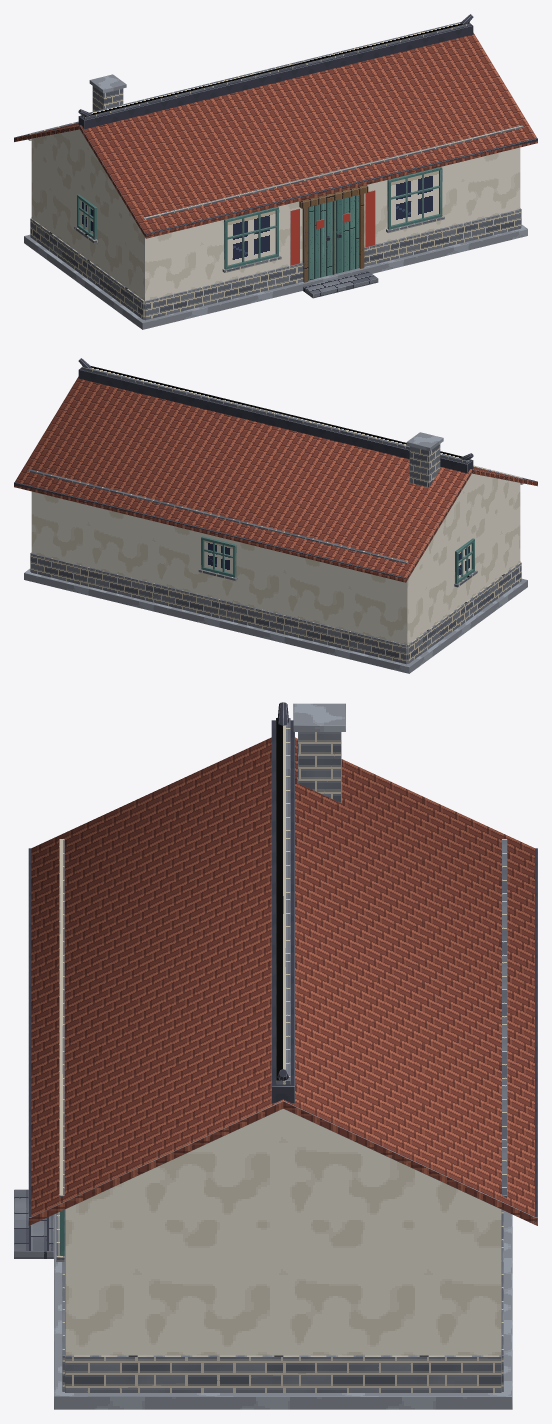
File: cn_brick_house_5.glb
The picture shows the model from 3 angles, top to bottom: view 1: azimuth 30°, elevation 25°; view 2: azimuth 150°, elevation 25°; view 3: azimuth 270°, elevation 25°; orthographic projection. The views are drawn at different scales.
Visible parts, largest first — view 1: cn_brick_house_6; view 2: cn_brick_house_6; view 3: cn_brick_house_6.
Boxes of the visible parts, x1,y1,x2,y2 form: cn_brick_house_6: (14, 14, 537, 329); cn_brick_house_6: (14, 358, 537, 673); cn_brick_house_6: (14, 702, 537, 1409).
Size of the model in its own units: 12.07 by 5.53 by 7.2.
Materials: 13 (13 with a texture image).
